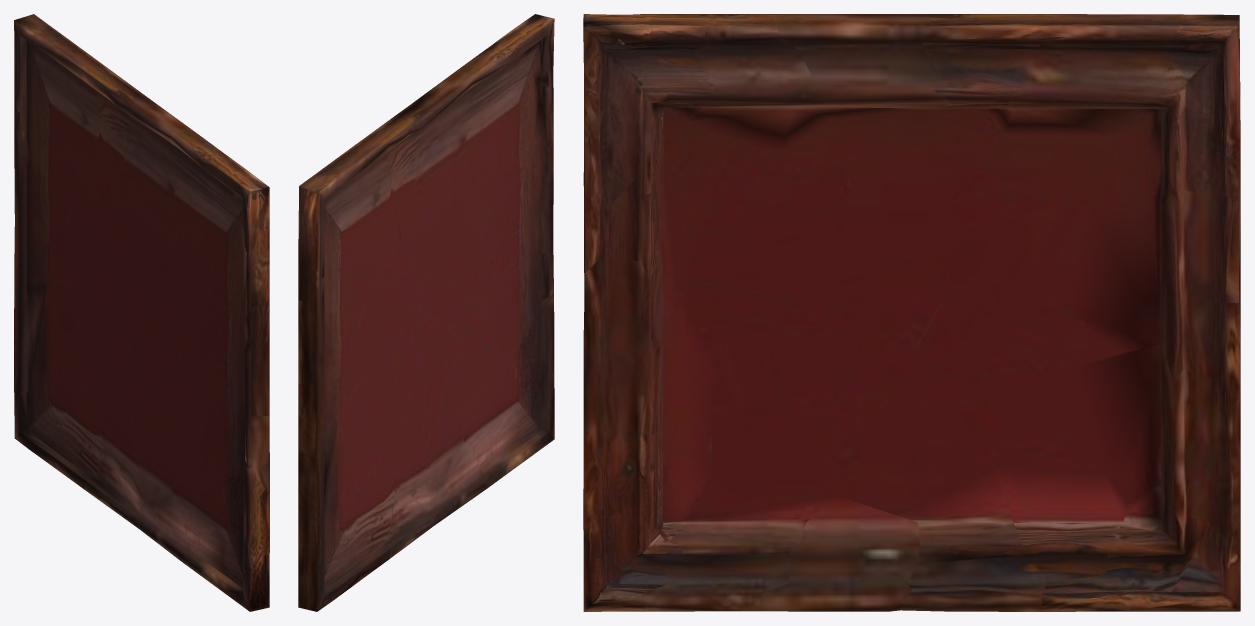
File: 酒馆招牌木板.glb
3 views of the same model, side by side, from view 1: azimuth 30°, elevation 25°; view 2: azimuth 150°, elevation 25°; view 3: azimuth 270°, elevation 25° (orthographic). The views are drawn at different scales.
Visible parts, largest first — view 1: tripo_node_5a1fc18d-ddc9-4730-adb3-989fdb131417; view 2: tripo_node_5a1fc18d-ddc9-4730-adb3-989fdb131417; view 3: tripo_node_5a1fc18d-ddc9-4730-adb3-989fdb131417.
Part boxes in pixels (x1,y1,x2,y2): tripo_node_5a1fc18d-ddc9-4730-adb3-989fdb131417: [14, 14, 269, 611]; tripo_node_5a1fc18d-ddc9-4730-adb3-989fdb131417: [298, 14, 554, 611]; tripo_node_5a1fc18d-ddc9-4730-adb3-989fdb131417: [583, 14, 1240, 611].
Bounding box in the file's own units: 0.0526 × 0.9922 × 0.9998.
1 material, 1 textured.
